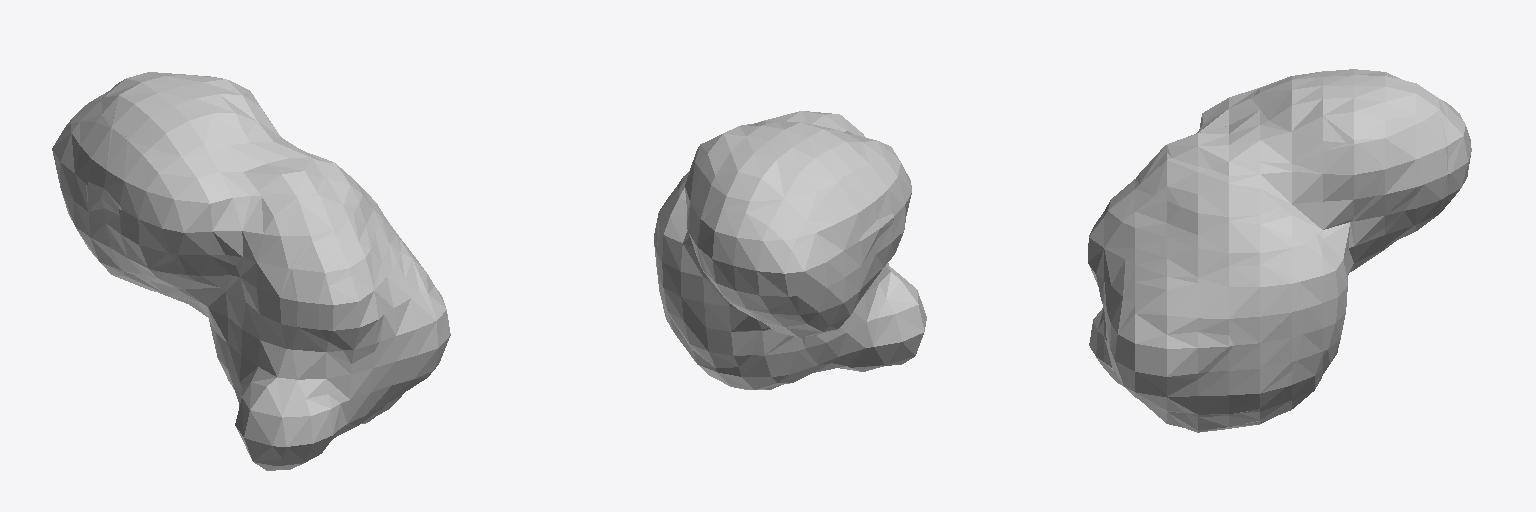
The model's file is 1m1h_cms.obj.
The picture shows the model from 3 angles: view 1: azimuth 30°, elevation 25°; view 2: azimuth 150°, elevation 25°; view 3: azimuth 270°, elevation 25°; orthographic projection.
Size of the model in its own units: 51.41 by 56.01 by 64.09.